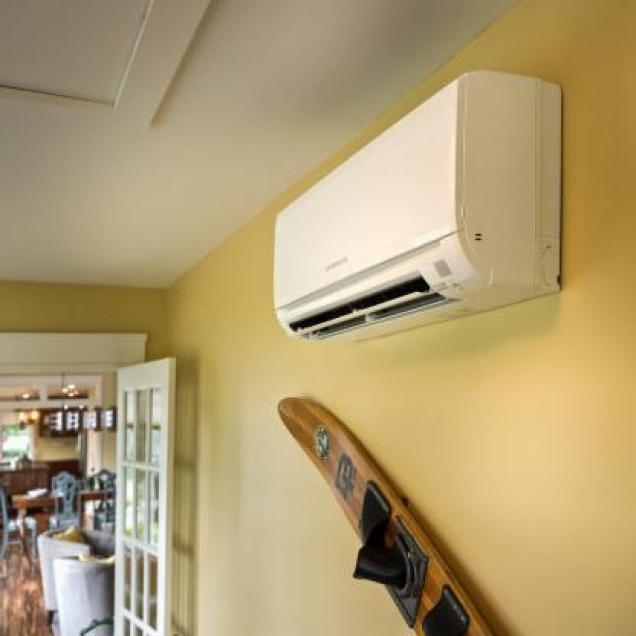AC: (271, 68, 562, 345)
